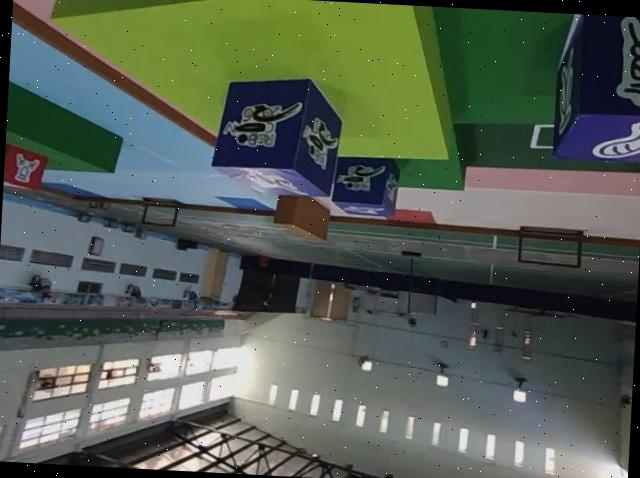R1 Blue: (207, 69, 341, 195), (331, 153, 401, 216)
R2 Fake Blue: (549, 12, 640, 164)
R2 Real Blue: (2, 141, 49, 193)
